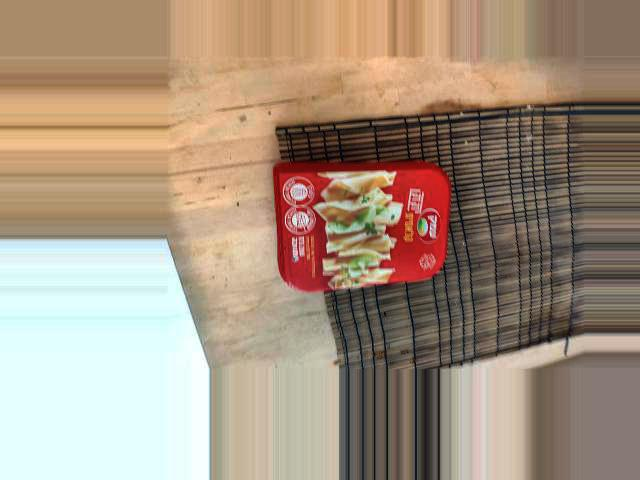cheese: (371, 188, 494, 380)
